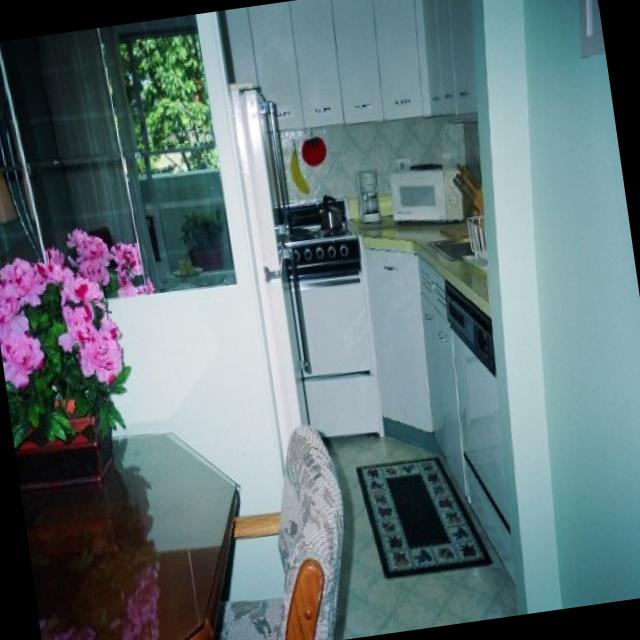2001: (1, 17, 234, 304)
2036: (352, 200, 488, 313)
armchair occluded: (218, 427, 345, 640)
cupboard crop: (223, 0, 479, 134), (363, 246, 469, 510)
floor -X: (35, 366, 519, 640)
flowers in pot: (2, 234, 141, 438)
fridge: (230, 89, 312, 483)
microwave oven: (388, 160, 466, 224)
rug -partially obscured-: (354, 455, 493, 580)
stove burner: (291, 213, 384, 441)
table runner: (15, 429, 239, 640)
vase -X: (15, 414, 132, 598)
wall clock: (0, 17, 288, 564), (215, 0, 464, 421), (477, 0, 640, 611), (421, 0, 513, 534)
